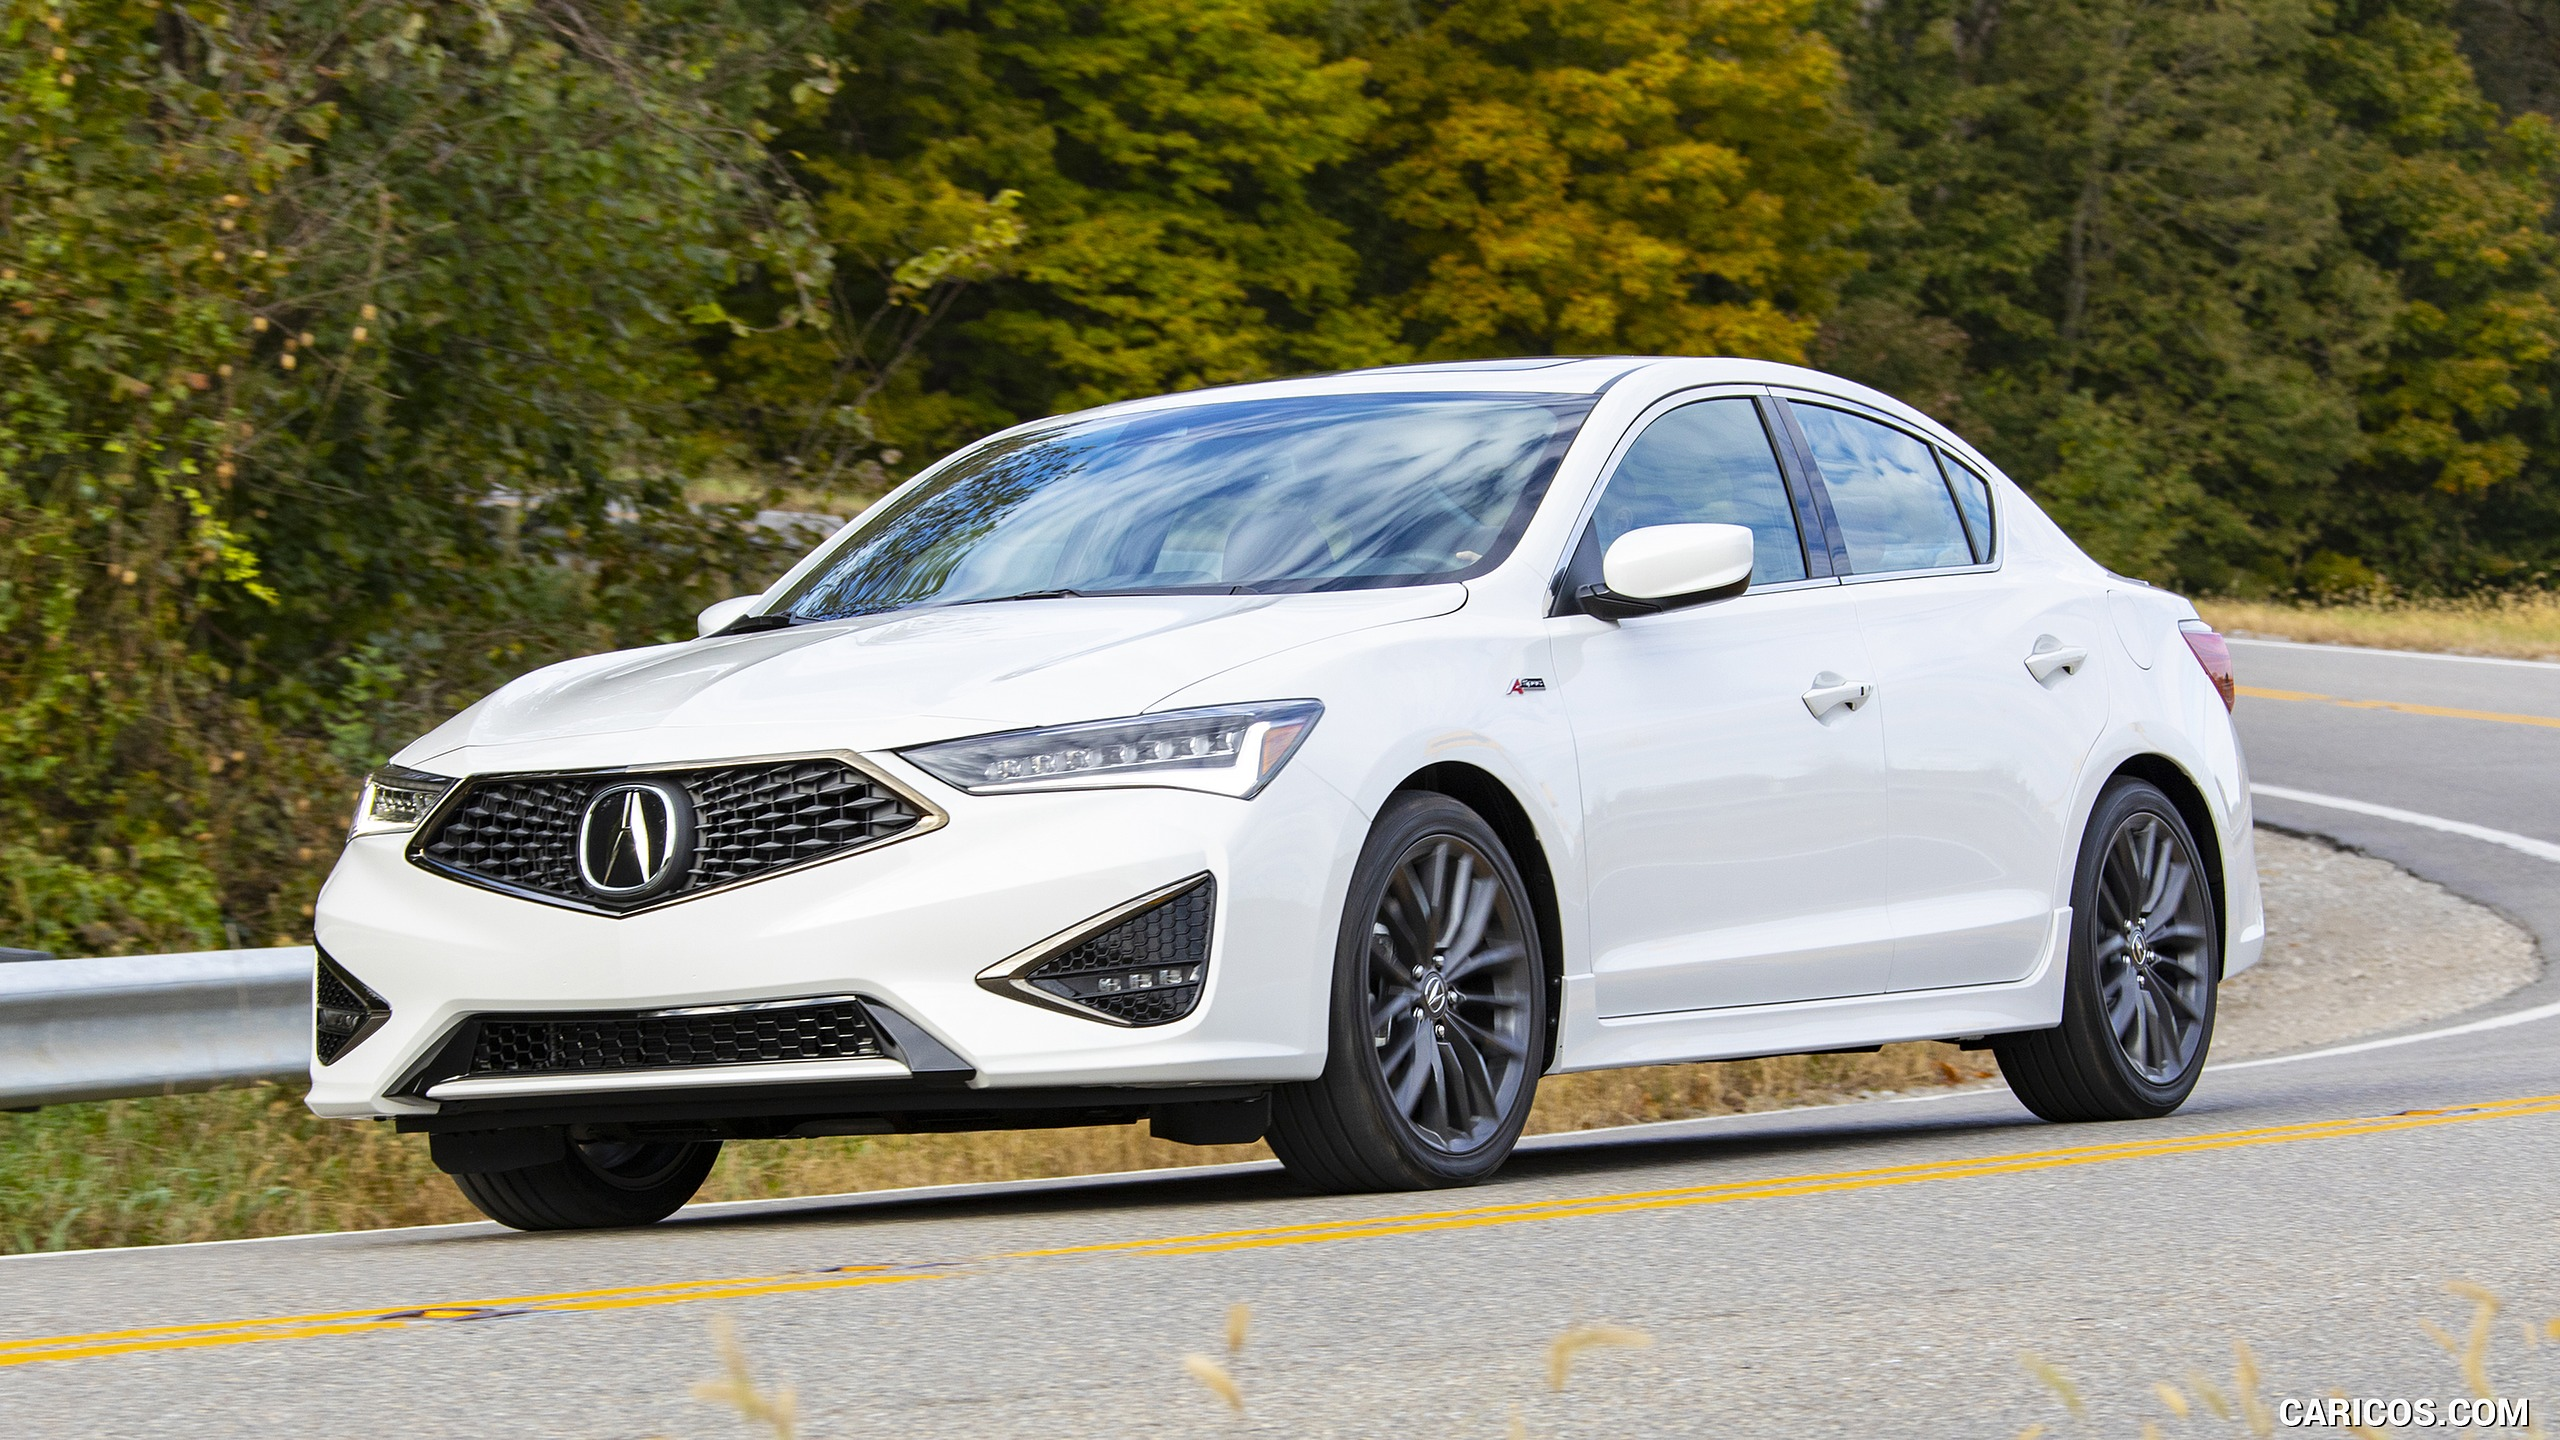Fog Lamp & Scope: (1016, 898, 1217, 1020)
Front: (299, 631, 1468, 1116)
Front Bumper: (311, 902, 1326, 1136)
Grill: (452, 763, 905, 913)
Headlight: (920, 703, 1340, 804)
